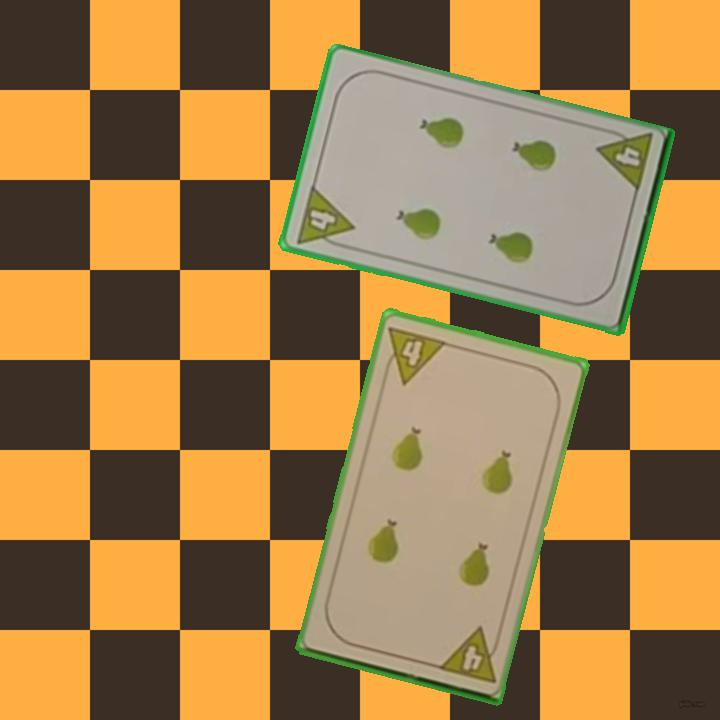4p: (292, 182, 357, 253), (378, 322, 449, 387), (593, 124, 656, 196), (434, 624, 504, 686)
